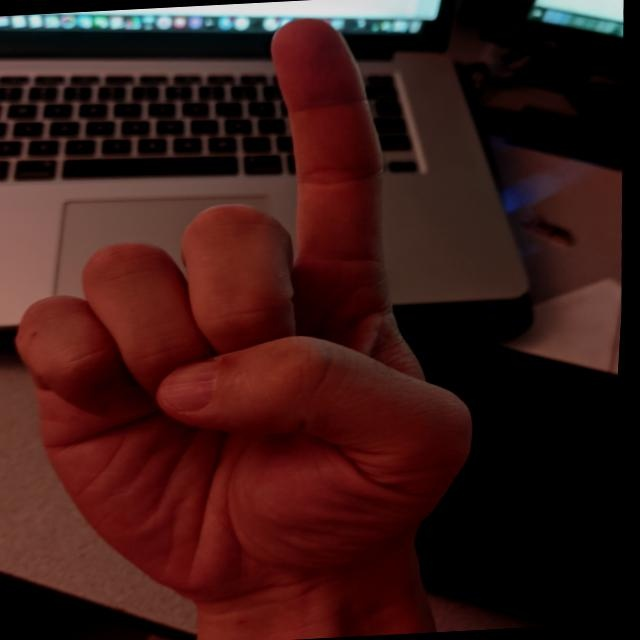D: (0, 0, 518, 627)
